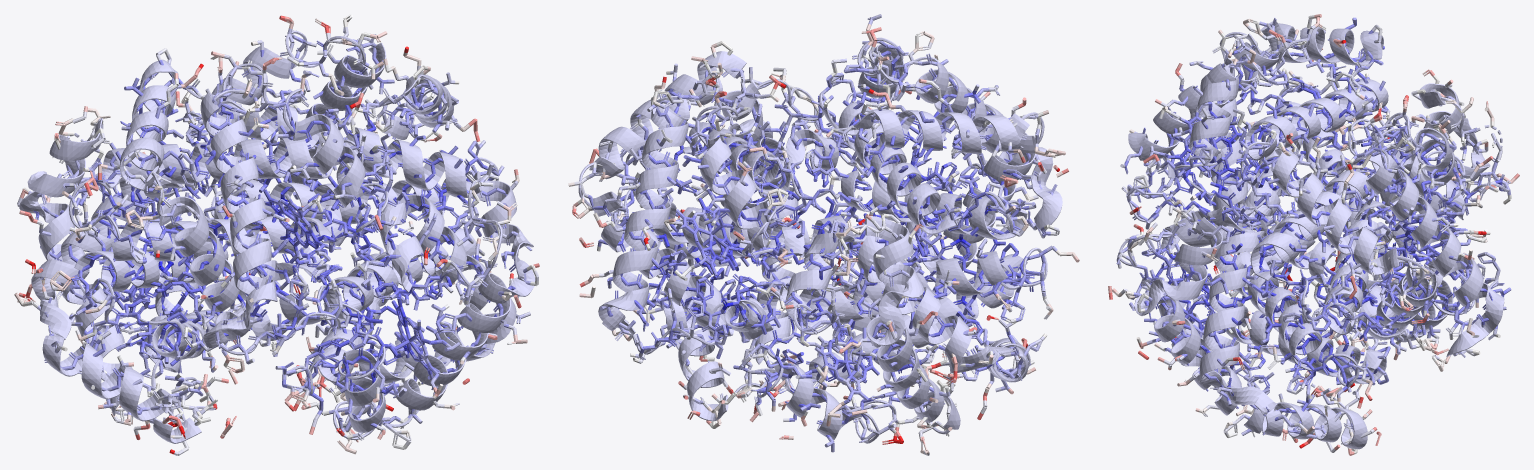
File: 4hhb__cartoon-sticks__b-factor.glb
3 views of the same model, side by side, from view 1: azimuth 30°, elevation 25°; view 2: azimuth 150°, elevation 25°; view 3: azimuth 270°, elevation 25° (orthographic). The views are drawn at different scales.
Parts seen in each view (by area): view 1: Renderer Node; view 2: Renderer Node; view 3: Renderer Node.
Boxes of the visible parts, <box> form: Renderer Node: <box>14,14,539,455</box>; Renderer Node: <box>568,14,1079,455</box>; Renderer Node: <box>1108,14,1519,455</box>.
Bounding box in the file's own units: 65.72 × 57.28 × 57.7.
